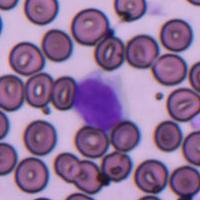L: (71, 71, 129, 132)
